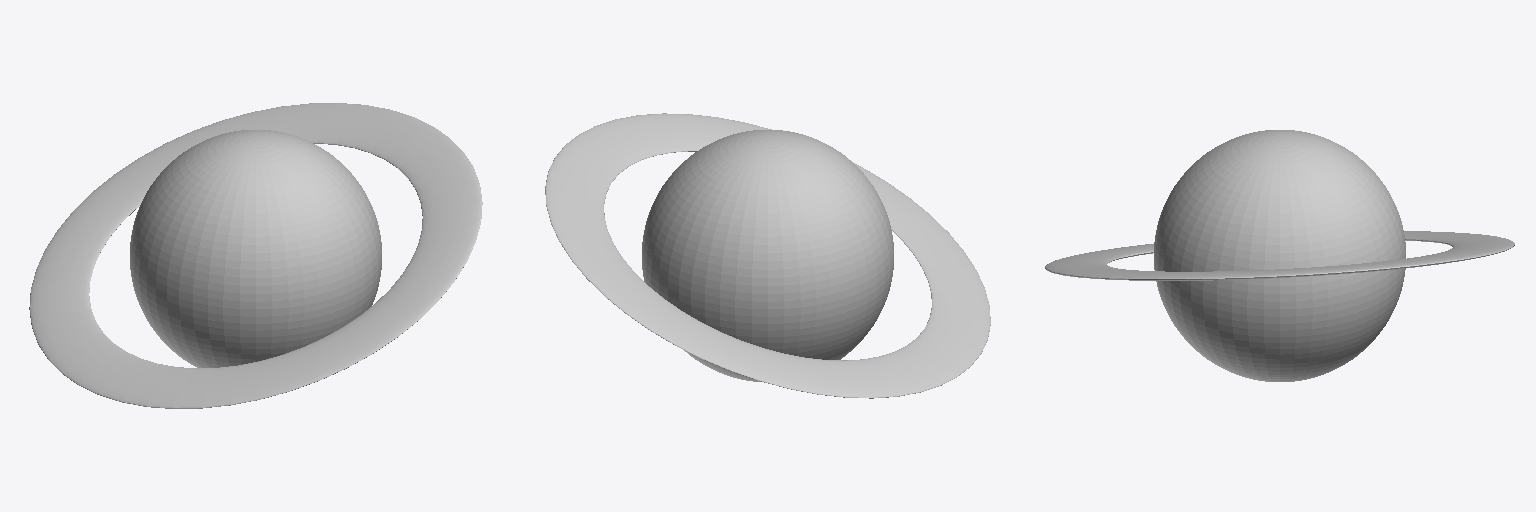
The model's file is MoonboMoon.obj.
The picture shows the model from 3 angles: view 1: azimuth 30°, elevation 25°; view 2: azimuth 150°, elevation 25°; view 3: azimuth 270°, elevation 25°; orthographic projection.
Parts seen in each view (by area): view 1: sphere1; view 2: sphere1; view 3: sphere1.
Boxes of the visible parts, x1=… form: sphere1: x1=29, y1=103, x2=482, y2=408; sphere1: x1=545, y1=113, x2=990, y2=398; sphere1: x1=1045, y1=130, x2=1514, y2=381.
Size of the model in its own units: 3.5 by 2 by 3.72.